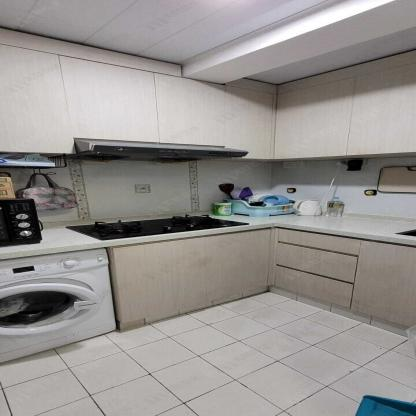Cupboard: (0, 29, 284, 159), (117, 228, 415, 337), (270, 48, 415, 161)
Exhaust Hood: (72, 136, 253, 164), (76, 139, 248, 165)
Stove: (61, 214, 256, 243), (67, 213, 251, 240)
Washing Machine: (0, 247, 119, 366)
